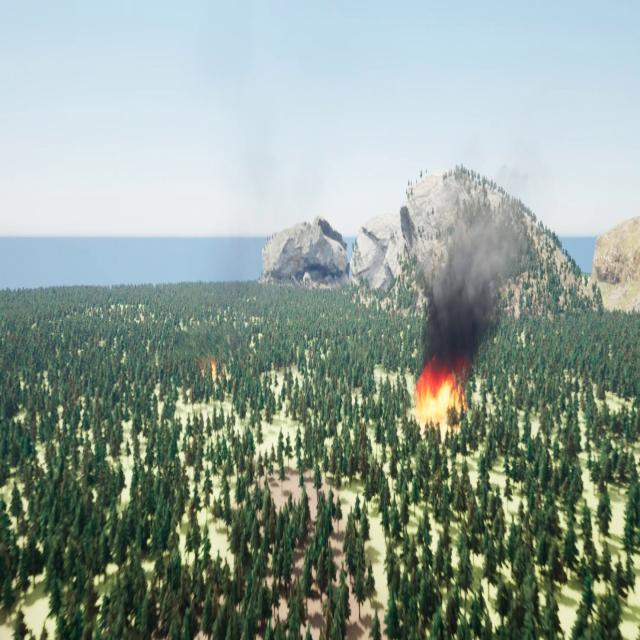fire: (414, 374, 468, 422), (196, 356, 216, 382)
smoke: (422, 161, 532, 362)
